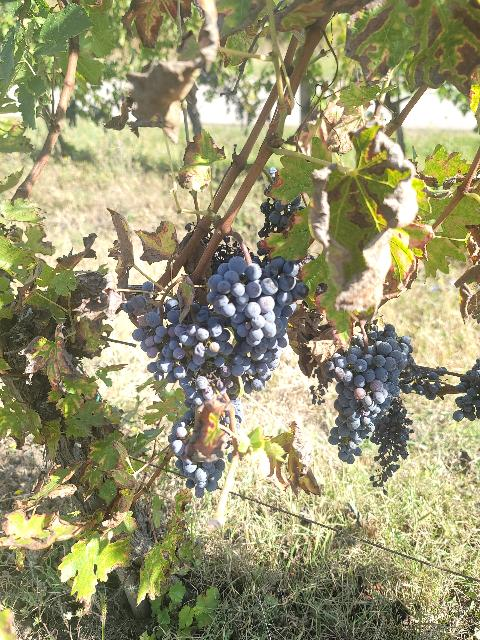grapes: (208, 256, 309, 391), (324, 325, 411, 464), (122, 281, 192, 389), (174, 305, 234, 390), (168, 418, 225, 499), (370, 398, 414, 495)
